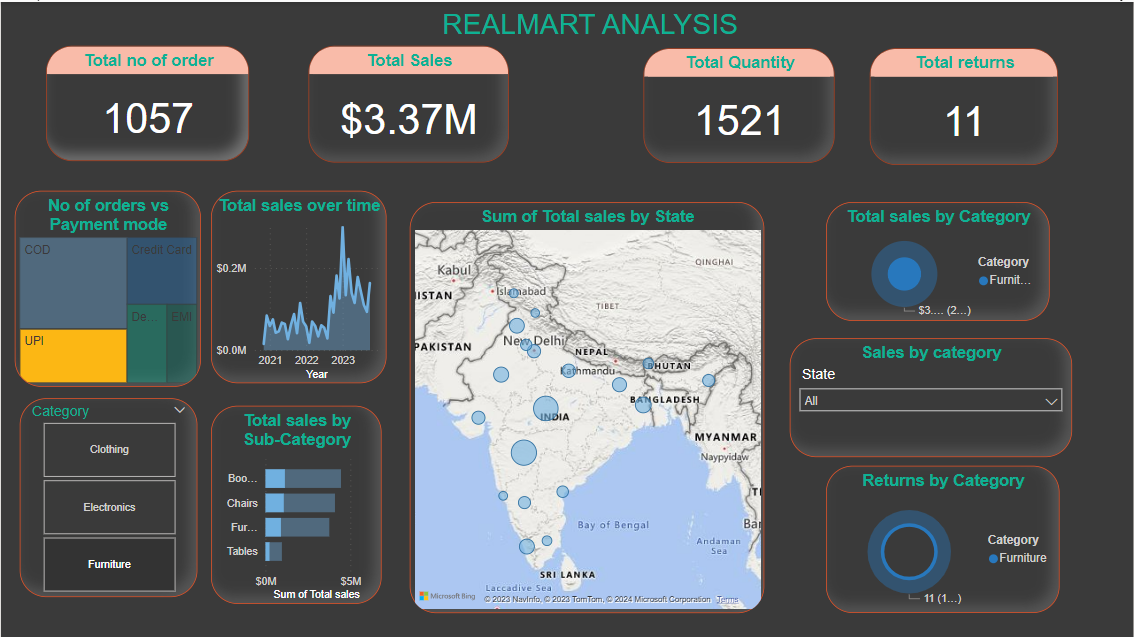

Layout of this report page (visuals, bound fields, positions):
{"tool":"powerbi","page":{"name":"Page 1","canvas":[1280,720],"ordinal":0},"visuals":[{"type":"card","title":"Total no of order","fields":{"Values":["CountNonNull(Dataset.Order ID)"]},"box":[51.3,50.1,229.8,130.8],"z":0},{"type":"card","title":"Total Sales","fields":{"Values":["Sum(Dataset.Total sales)"]},"box":[347.2,50.1,226.1,132],"z":1000},{"type":"card","title":"Total Quantity","fields":{"Values":["Sum(Dataset.Net quantity)"]},"box":[726.1,52.6,216.4,129.6],"z":2000},{"type":"card","title":"Total returns","fields":{"Values":["Sum(Dataset.Returns)"]},"box":[982.8,52.6,212.7,132],"z":3000},{"type":"areaChart","title":"Total sales over time","fields":{"Category":["Dataset.Date.Variation.Date Hierarchy.Year","Dataset.Date.Variation.Date Hierarchy.Month"],"Y":["Sum(Dataset.Total sales)"]},"box":[237.1,213.9,198,217.6],"z":4000},{"type":"pieChart","title":"Total sales by Category","fields":{"Category":["Dataset.Category"],"Y":["Sum(Dataset.Total sales)"]},"box":[932.7,226.1,253,134.5],"z":5000},{"type":"clusteredBarChart","title":"Total sales by Sub-Category","fields":{"Category":["Dataset.Sub-Category"],"Y":["Sum(Dataset.Total sales)"]},"box":[237.1,456,193.1,223.7],"z":6000},{"type":"treemap","title":"No of orders vs Payment mode","fields":{"Group":["Dataset.PaymentMode"],"Values":["CountNonNull(Dataset.Order ID)"]},"box":[15.9,213.9,210.3,221.3],"z":7000},{"type":"map","fields":{"Category":["Dataset.State"],"Size":["Sum(Dataset.Total sales)"]},"box":[462.1,226.1,401,464.5],"z":8000},{"type":"textbox","box":[460.8,2.4,410.7,74.6],"z":9000},{"type":"slicer","fields":{"Values":["Dataset.Category"]},"box":[20.8,447.4,200.5,224.9],"z":10000},{"type":"slicer","title":"Sales by category","fields":{"Values":["Dataset.State"]},"box":[892.4,380.2,319,134.5],"z":11000},{"type":"donutChart","title":"Returns by Category","fields":{"Category":["Dataset.Category"],"Y":["Sum(Dataset.Returns)"]},"box":[932.7,524.4,264,166.2],"z":12000}]}

Visuals, with their boxes in screenshot pixels (x1, y1, x2, y2), scaled from the page's 1280x720 canvas onto the 1134x637 screenshot:
"Total no of order" card: {"left": 45, "top": 44, "right": 249, "bottom": 160}
"Total Sales" card: {"left": 308, "top": 44, "right": 508, "bottom": 161}
"Total Quantity" card: {"left": 643, "top": 47, "right": 835, "bottom": 161}
"Total returns" card: {"left": 871, "top": 47, "right": 1059, "bottom": 163}
"Total sales over time" areaChart: {"left": 210, "top": 189, "right": 385, "bottom": 382}
"Total sales by Category" pieChart: {"left": 826, "top": 200, "right": 1050, "bottom": 319}
"Total sales by Sub-Category" clusteredBarChart: {"left": 210, "top": 403, "right": 381, "bottom": 601}
"No of orders vs Payment mode" treemap: {"left": 14, "top": 189, "right": 200, "bottom": 385}
map - Dataset.State x Sum(Dataset.Total sales): {"left": 409, "top": 200, "right": 765, "bottom": 611}
textbox: {"left": 408, "top": 2, "right": 772, "bottom": 68}
slicer - Dataset.Category: {"left": 18, "top": 396, "right": 196, "bottom": 595}
"Sales by category" slicer: {"left": 791, "top": 336, "right": 1073, "bottom": 455}
"Returns by Category" donutChart: {"left": 826, "top": 464, "right": 1060, "bottom": 611}
